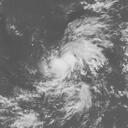cyclone: (38, 37, 108, 102)
